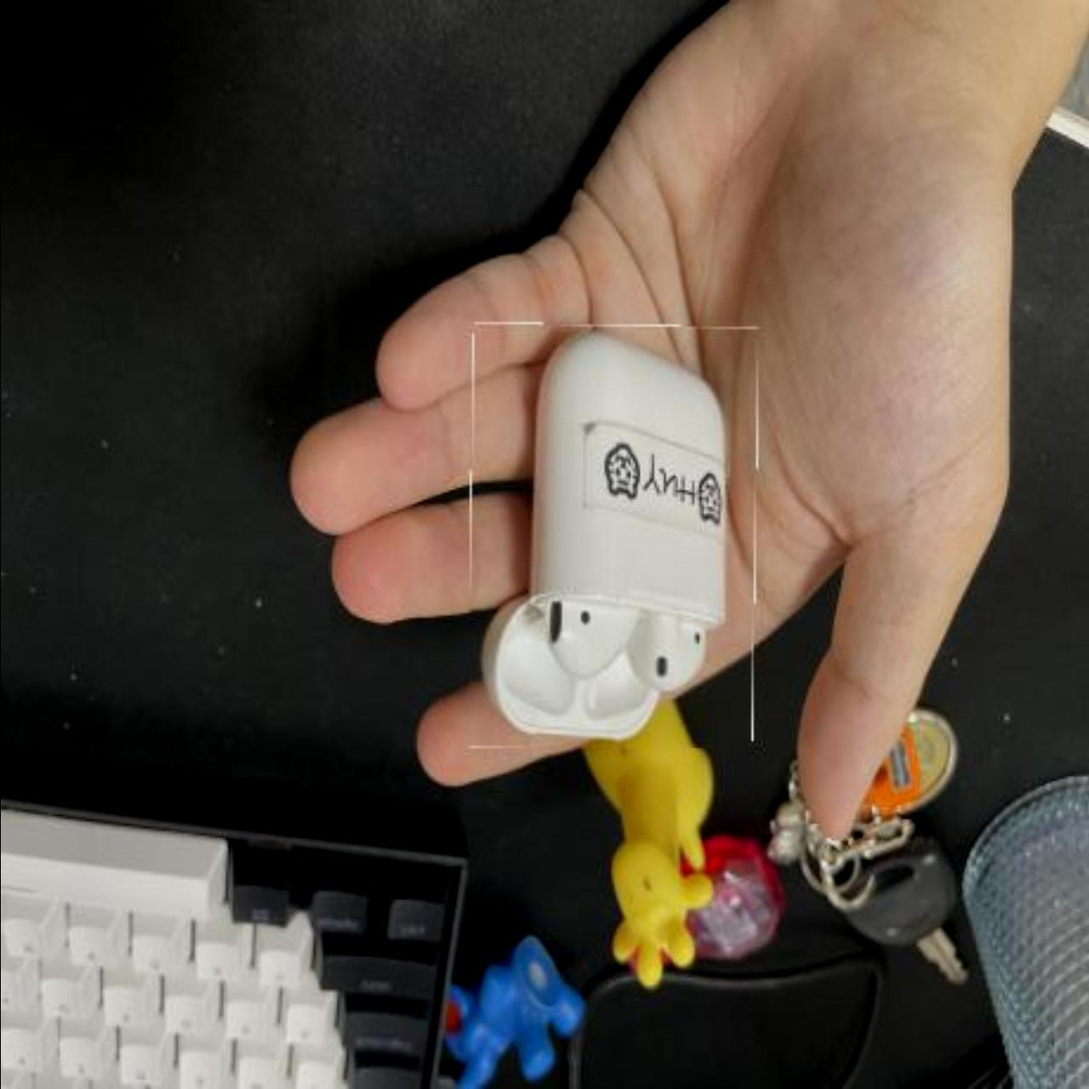AirPods: (467, 323, 755, 749)
